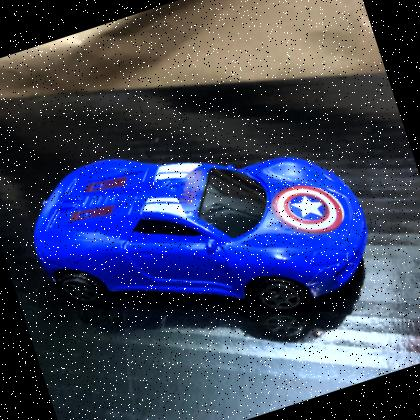Car: (33, 157, 368, 315)
